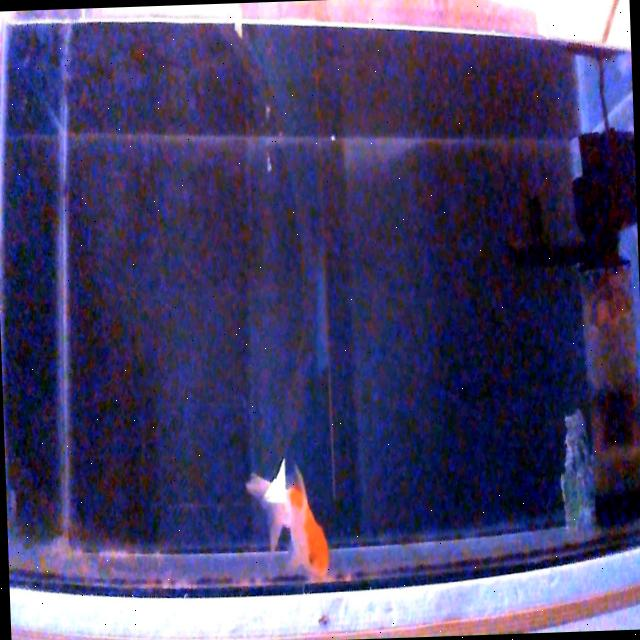fish: (242, 455, 331, 580)
